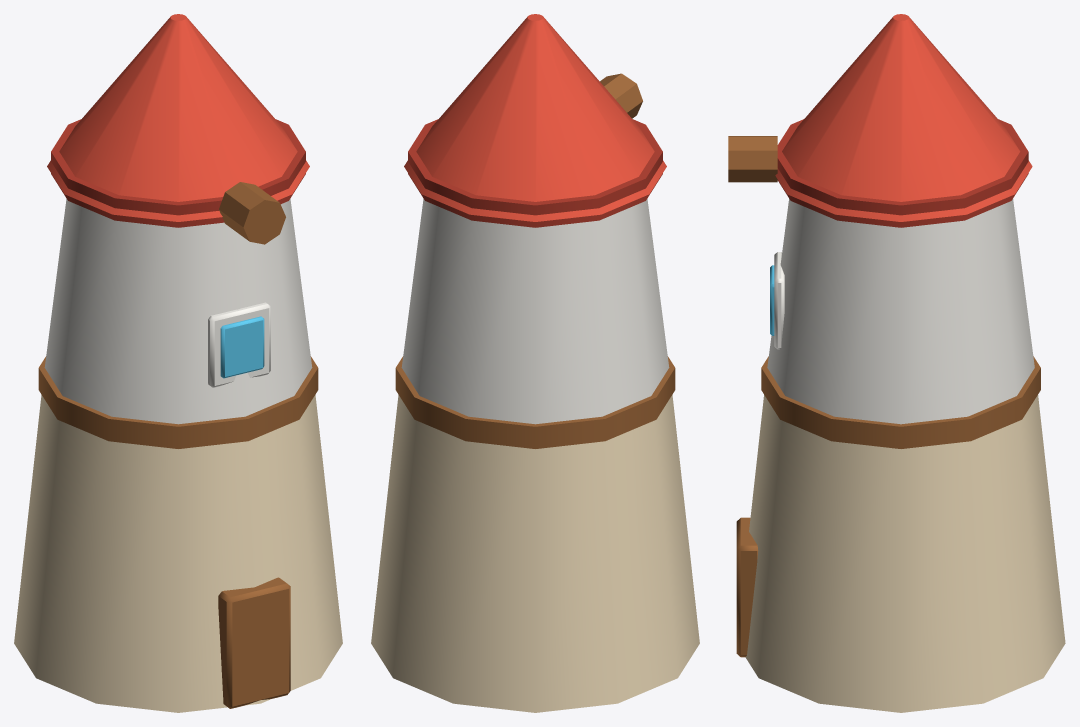
Rendered from home_windmill.fbx.
3 views of the same model, side by side, from view 1: azimuth 30°, elevation 25°; view 2: azimuth 150°, elevation 25°; view 3: azimuth 270°, elevation 25° (orthographic).
Visible parts, largest first — view 1: home_windmill; view 2: home_windmill; view 3: home_windmill.
Boxes of the visible parts, left/top/right/bottom form: home_windmill: left=14, top=14, right=342, bottom=712; home_windmill: left=371, top=14, right=699, bottom=712; home_windmill: left=728, top=14, right=1065, bottom=712.
Bounding box in the file's own units: 0.8 × 1.68 × 0.82.
